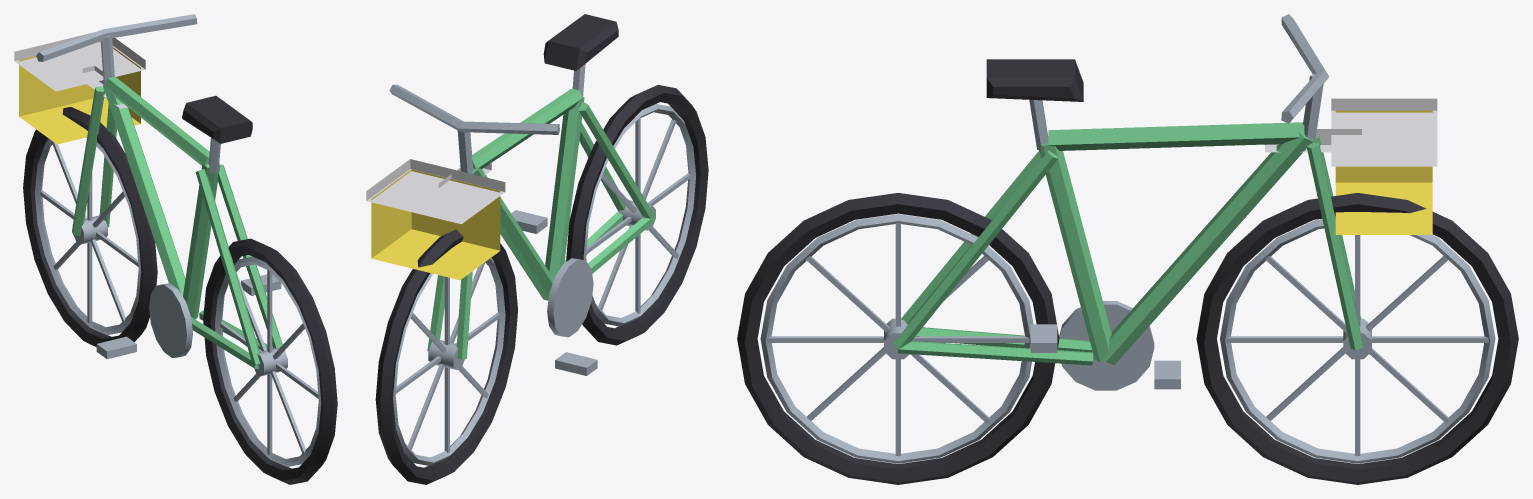
Rendered from bike.glb.
3 renders of one model, left to right at view 1: azimuth 30°, elevation 25°; view 2: azimuth 150°, elevation 25°; view 3: azimuth 270°, elevation 25°, orthographic. The views are drawn at different scales.
Parts seen in each view (by area): view 1: Bicycle frame, Bicycle tyres, Bicycle rims, Bicycle parts, basket-box, basket-lip, Bicycle saddle; view 2: Bicycle tyres, Bicycle rims, Bicycle frame, Bicycle parts, basket-box, basket-lip, Bicycle saddle; view 3: Bicycle tyres, Bicycle frame, Bicycle rims, Bicycle parts, basket-lip, basket-box, Bicycle saddle.
Part boxes in pixels (x1,y1,x2,y2): Bicycle frame: [72, 76, 282, 368]; Bicycle tyres: [23, 106, 337, 484]; Bicycle rims: [35, 137, 321, 466]; Bicycle parts: [36, 14, 281, 359]; basket-box: [19, 41, 140, 144]; basket-lip: [14, 32, 145, 91]; Bicycle saddle: [182, 95, 252, 143]; Bicycle tyres: [375, 85, 708, 484]; Bicycle rims: [393, 104, 695, 465]; Bicycle frame: [427, 88, 655, 359]; Bicycle parts: [389, 64, 597, 375]; basket-box: [371, 169, 500, 280]; basket-lip: [366, 159, 505, 224]; Bicycle saddle: [543, 14, 618, 70]; Bicycle tyres: [737, 193, 1518, 484]; Bicycle frame: [893, 122, 1363, 365]; Bicycle rims: [760, 214, 1495, 463]; Bicycle parts: [1029, 14, 1329, 390]; basket-lip: [1331, 98, 1437, 166]; basket-box: [1335, 110, 1432, 234]; Bicycle saddle: [986, 59, 1083, 101].
Size of the model in its own units: 0.7029 by 1.4 by 2.35.
